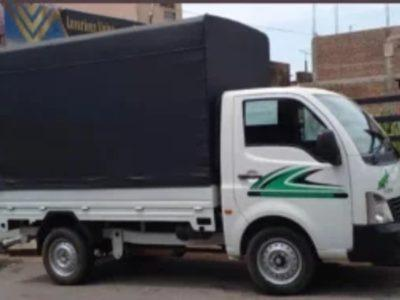truck: (1, 13, 400, 296)
